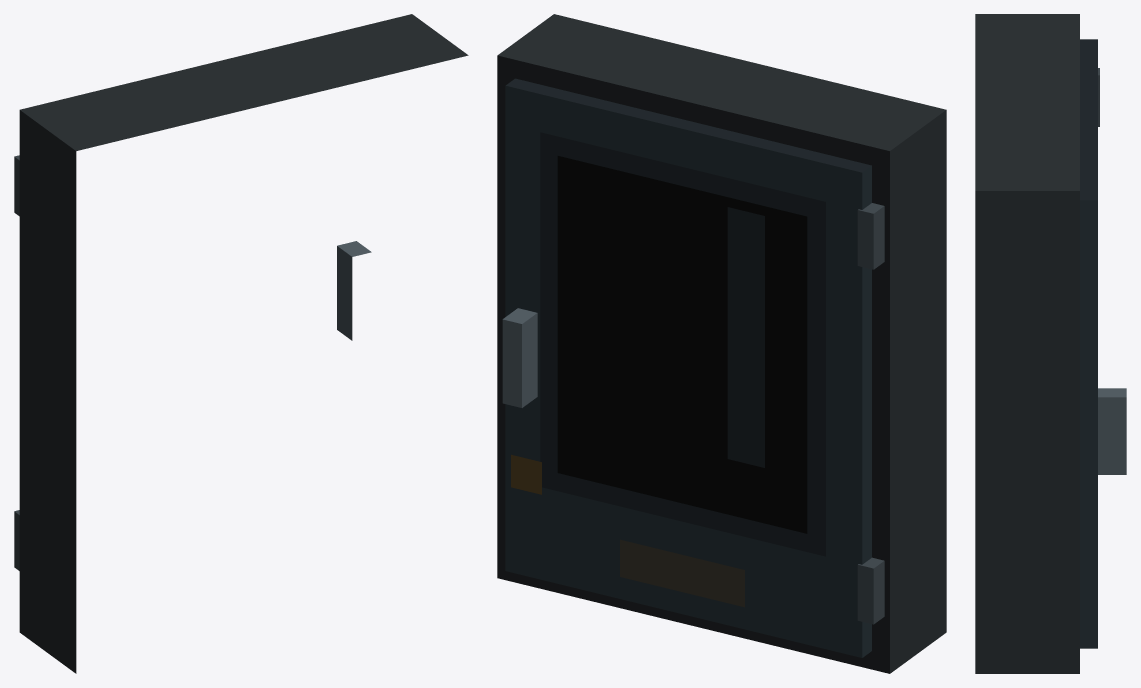
File: lp_key_cabinet.glb
3 views of the same model, side by side, from view 1: azimuth 30°, elevation 25°; view 2: azimuth 150°, elevation 25°; view 3: azimuth 270°, elevation 25° (orthographic). The views are drawn at different scales.
Visible parts, largest first — view 1: lp_key_cabinet; view 2: lp_key_cabinet; view 3: lp_key_cabinet.
Boxes of the visible parts, bbox=[...] form: lp_key_cabinet: bbox=[14, 14, 468, 673]; lp_key_cabinet: bbox=[497, 14, 946, 673]; lp_key_cabinet: bbox=[975, 14, 1126, 673].
Bounding box in the file's own units: 0.44 × 0.56 × 0.159.
Materials: 1 (1 with a texture image).
